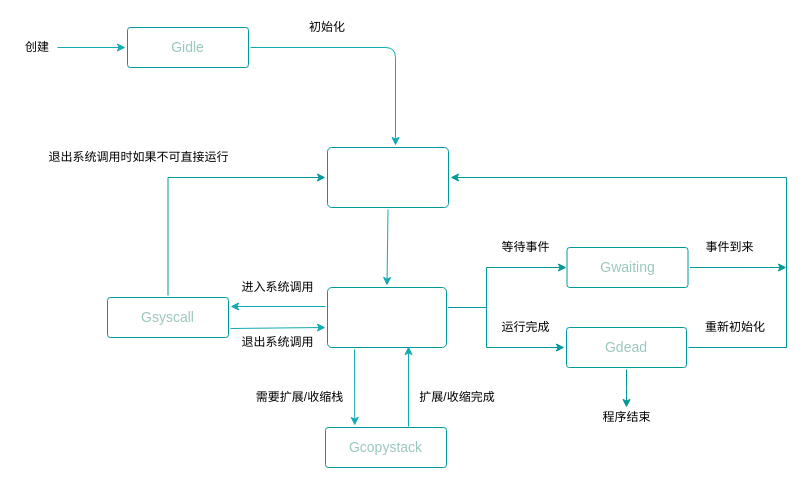
Image size: 812x485. Some labels were removed from this diagram. Here are the shapes that lost their labels. From the top down, the centre of each, then its label:
At pixel 387 177: "Grunnable".
At pixel 386 317: "Grunning".
